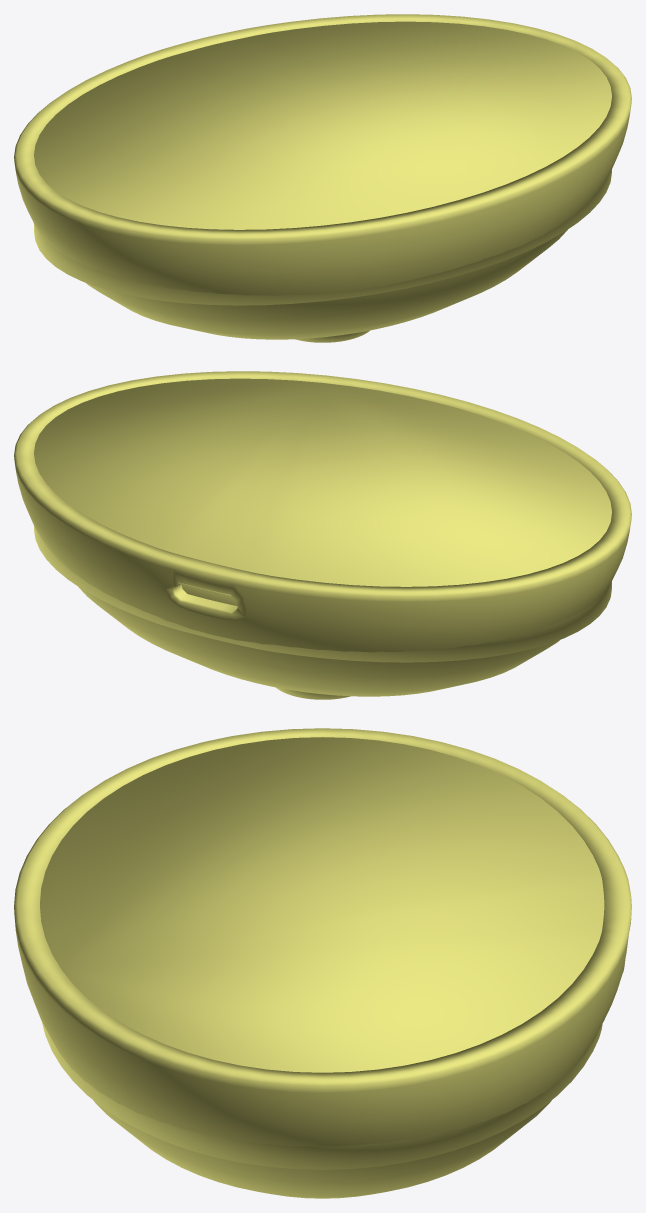
The picture shows the model from 3 angles, top to bottom: view 1: azimuth 30°, elevation 25°; view 2: azimuth 150°, elevation 25°; view 3: azimuth 270°, elevation 25°; orthographic projection. The views are drawn at different scales.
Parts seen in each view (by area): view 1: MAsk, OV 35; view 2: MAsk, OV 35; view 3: MAsk, OV 35.
Boxes of the visible parts, x1,y1,x2,y2 form: MAsk: (34,21,611,305); OV 35: (14,14,631,342); MAsk: (34,378,611,662); OV 35: (14,371,631,699); MAsk: (40,737,604,1169); OV 35: (14,728,631,1198).
Size of the model in its own units: 37.36 by 12.32 by 27.4.
